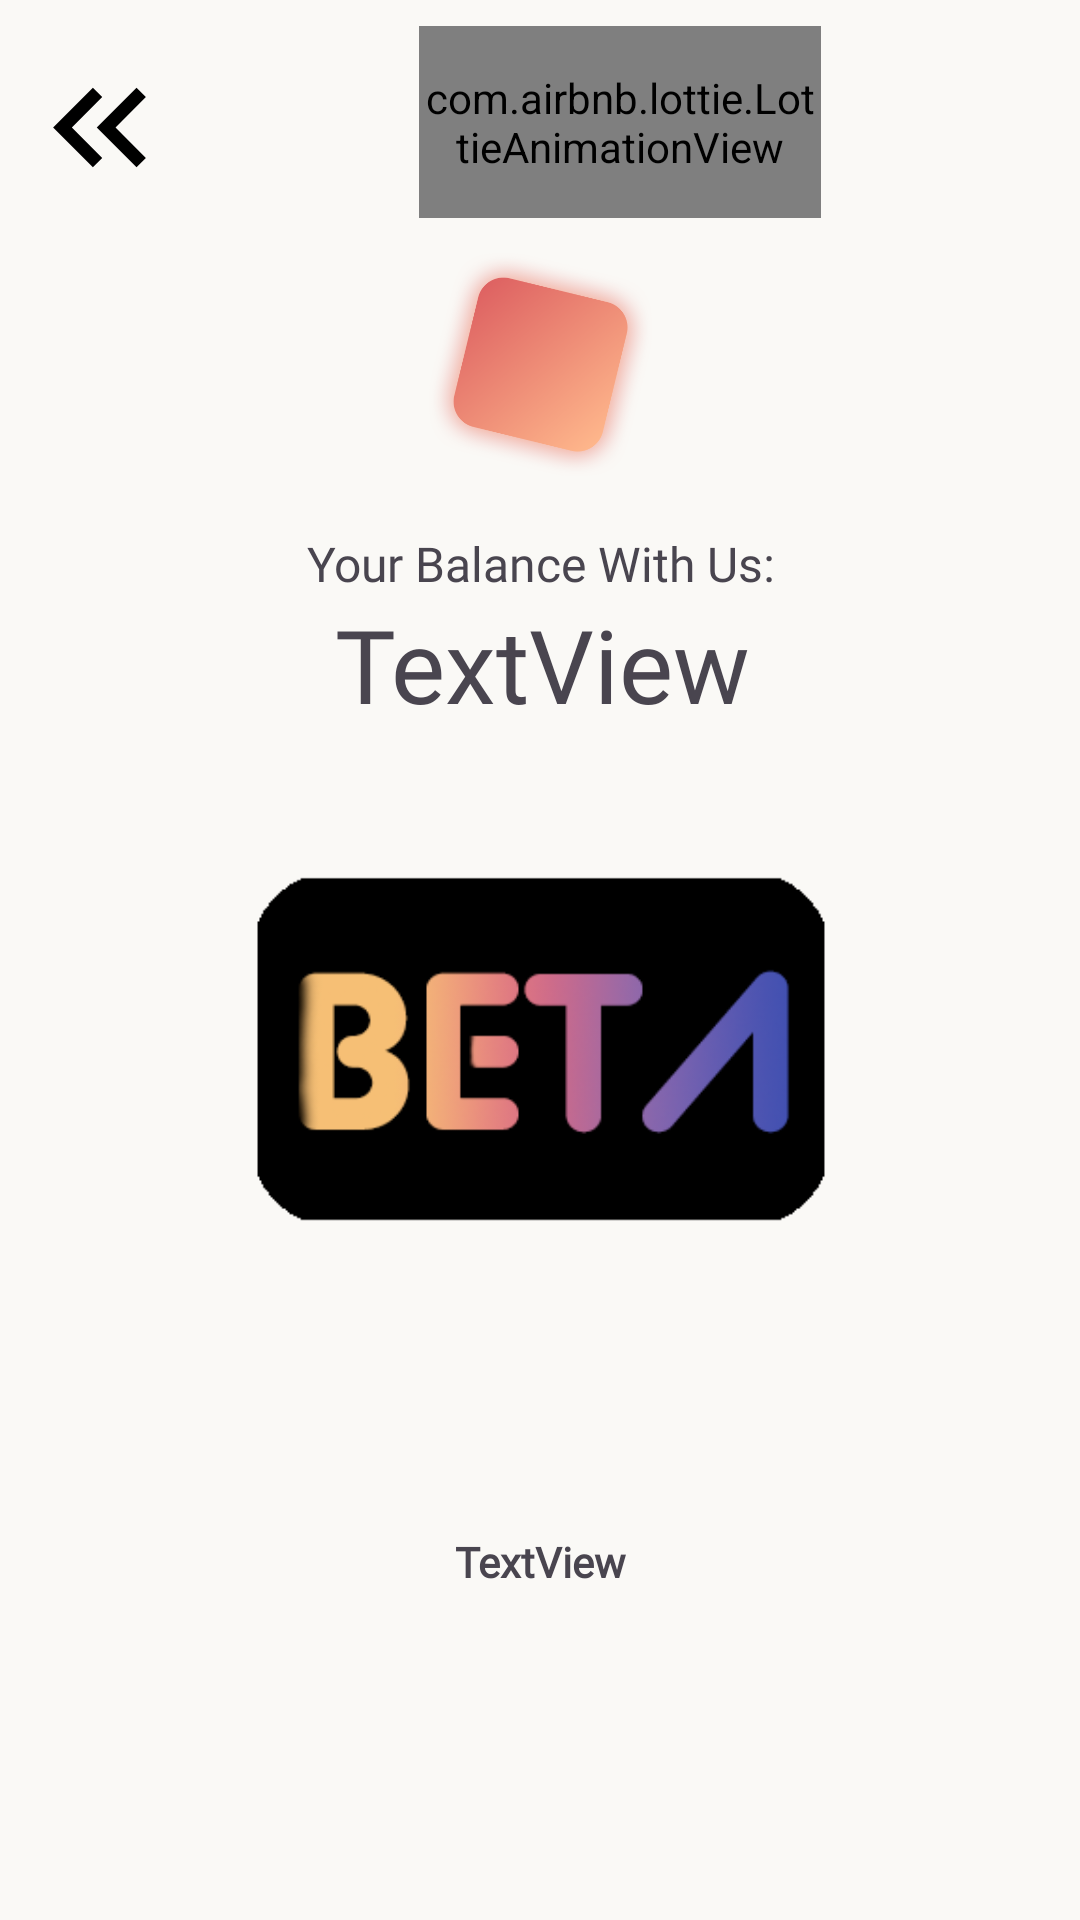

Screen size 1080 × 1920. Icon name, then its box in pixels as [x1,y1,x2,y2]:
keyboard double arrow left: [53,88,146,167]
